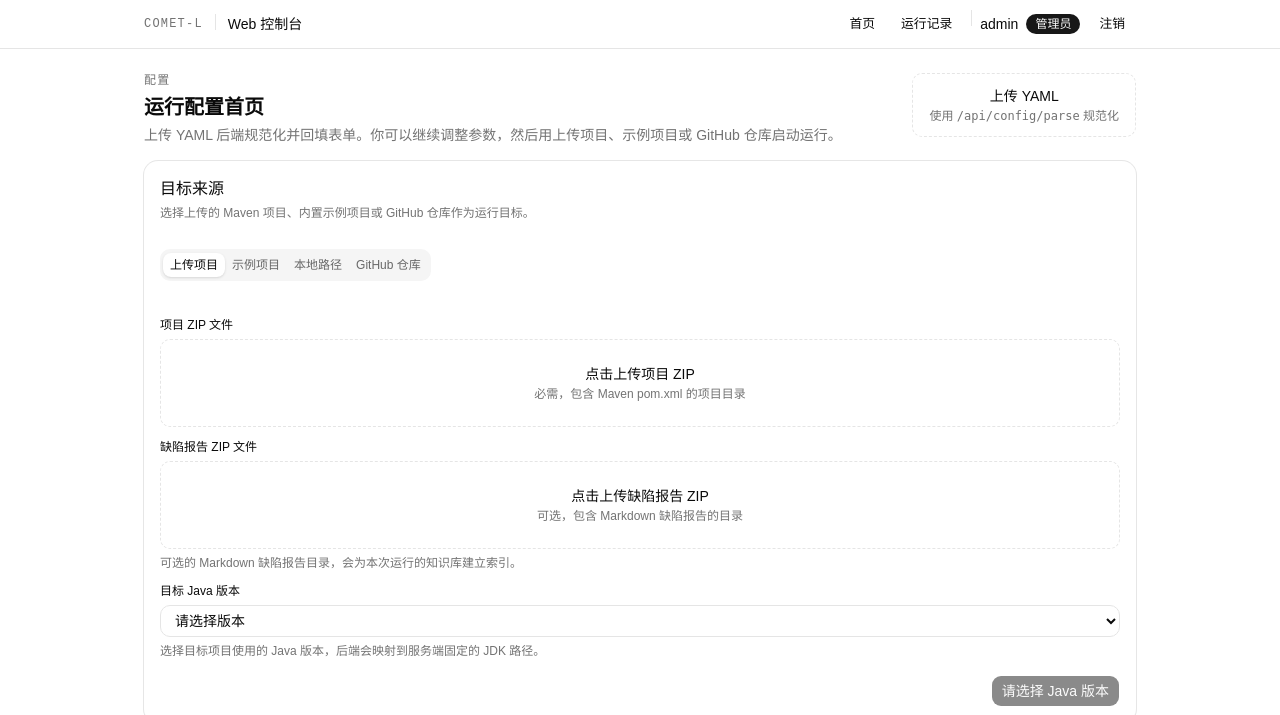
Test: Config page › shows backend project path validation errors
Expected: the file field named "上传项目 ZIP" is shown, [160,318,233,332]
Click the tab "本地路径" at x=318, y=265, box [287,253,349,277]
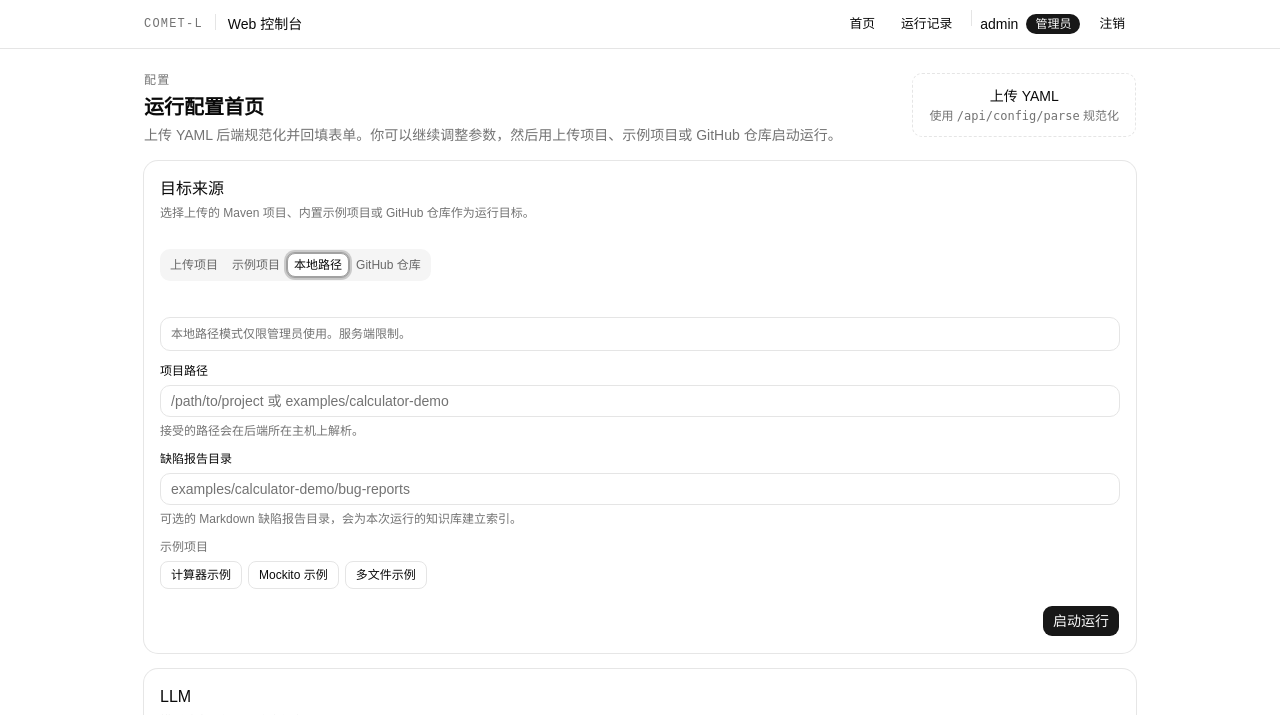
Result: the field labelled "项目路径" is shown
Type "/tmp/missing-project" into the field labelled "项目路径" at x=640, y=401, box [160,385,1120,417]
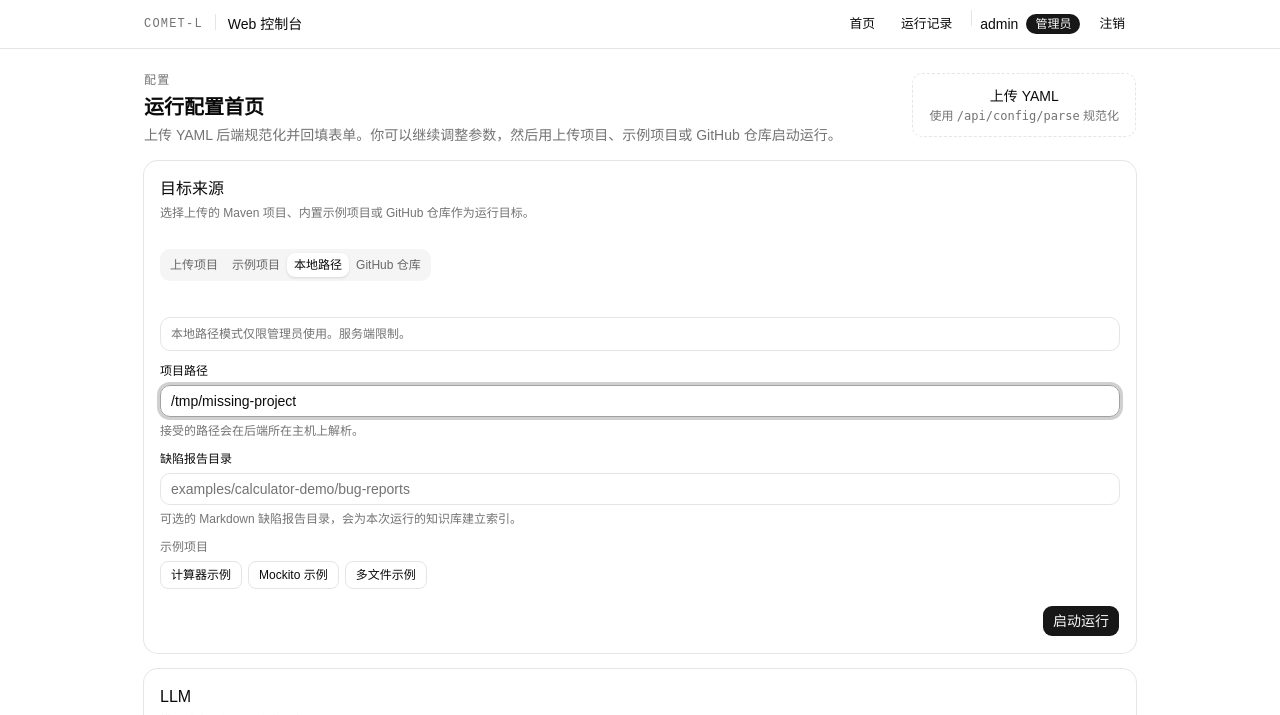
Click the button "启动运行" at x=1081, y=621, box [1042,605,1120,637]
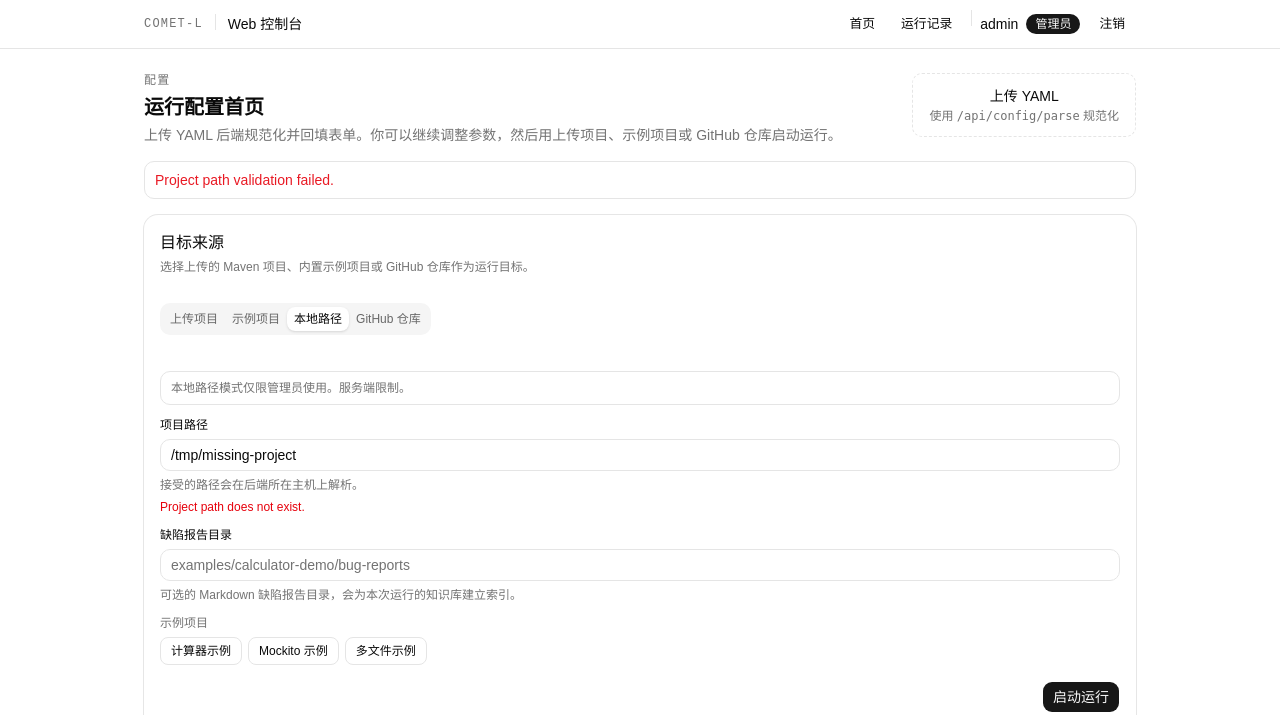
Expected: the heading "运行配置首页" is shown, [144,96,264,118]
Result: the text "Project path does not exist." is shown at [160,500,305,514]
